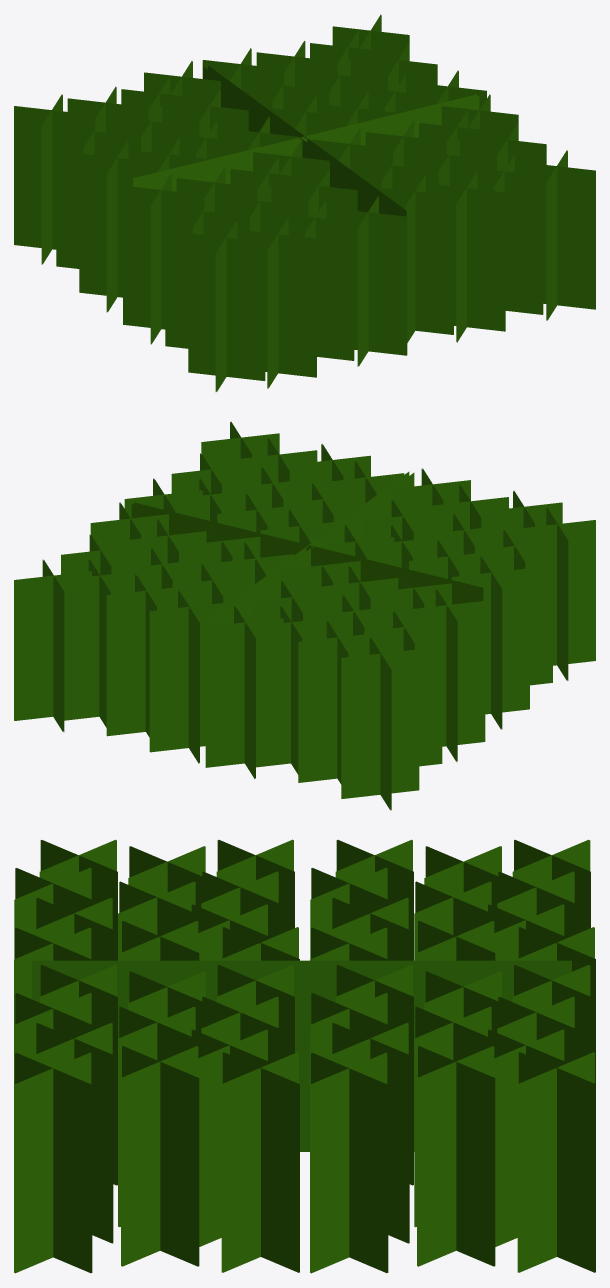
Rendered from Grass.fbx.
3 renders of one model, top to bottom at view 1: azimuth 30°, elevation 25°; view 2: azimuth 150°, elevation 25°; view 3: azimuth 270°, elevation 25°, orthographic. The views are drawn at different scales.
Visible parts, largest first — view 1: pPlane4 (×45), pPlane2 (×10), pPlane1, pPlane3; view 2: pPlane3 (×45), pPlane1 (×12), pPlane4, pPlane2; view 3: pPlane1 (×45), pPlane2 (×44), pPlane4.
Boxes of the visible parts, <box> form: pPlane4 (×45): <box>14,27,595,380</box>; pPlane2 (×10): <box>42,94,567,391</box>; pPlane1: <box>208,65,406,216</box>; pPlane3: <box>133,94,476,186</box>; pPlane3 (×45): <box>14,433,595,798</box>; pPlane1 (×12): <box>42,471,567,810</box>; pPlane4: <box>212,472,414,625</box>; pPlane2: <box>134,502,483,601</box>; pPlane1 (×45): <box>15,840,594,1273</box>; pPlane2 (×44): <box>15,840,594,1273</box>; pPlane4: <box>32,960,571,963</box>.
Size of the model in its own units: 0.9818 by 0.351 by 0.9828.
